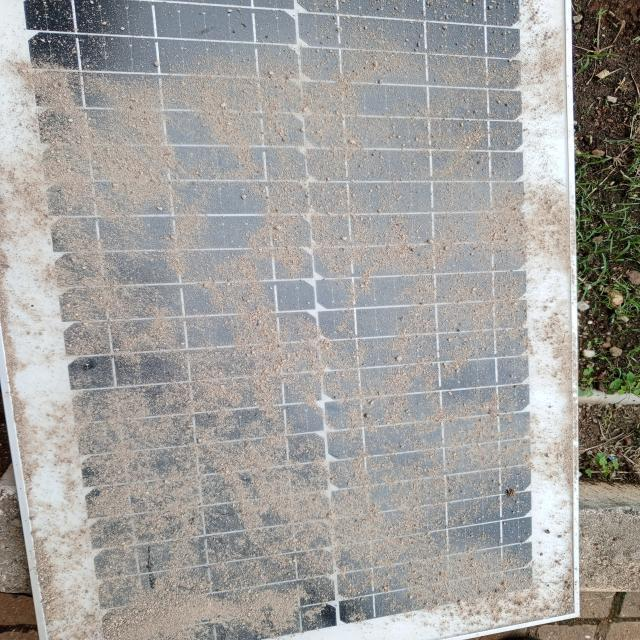Surface Contaminant: (69, 69, 577, 613)
